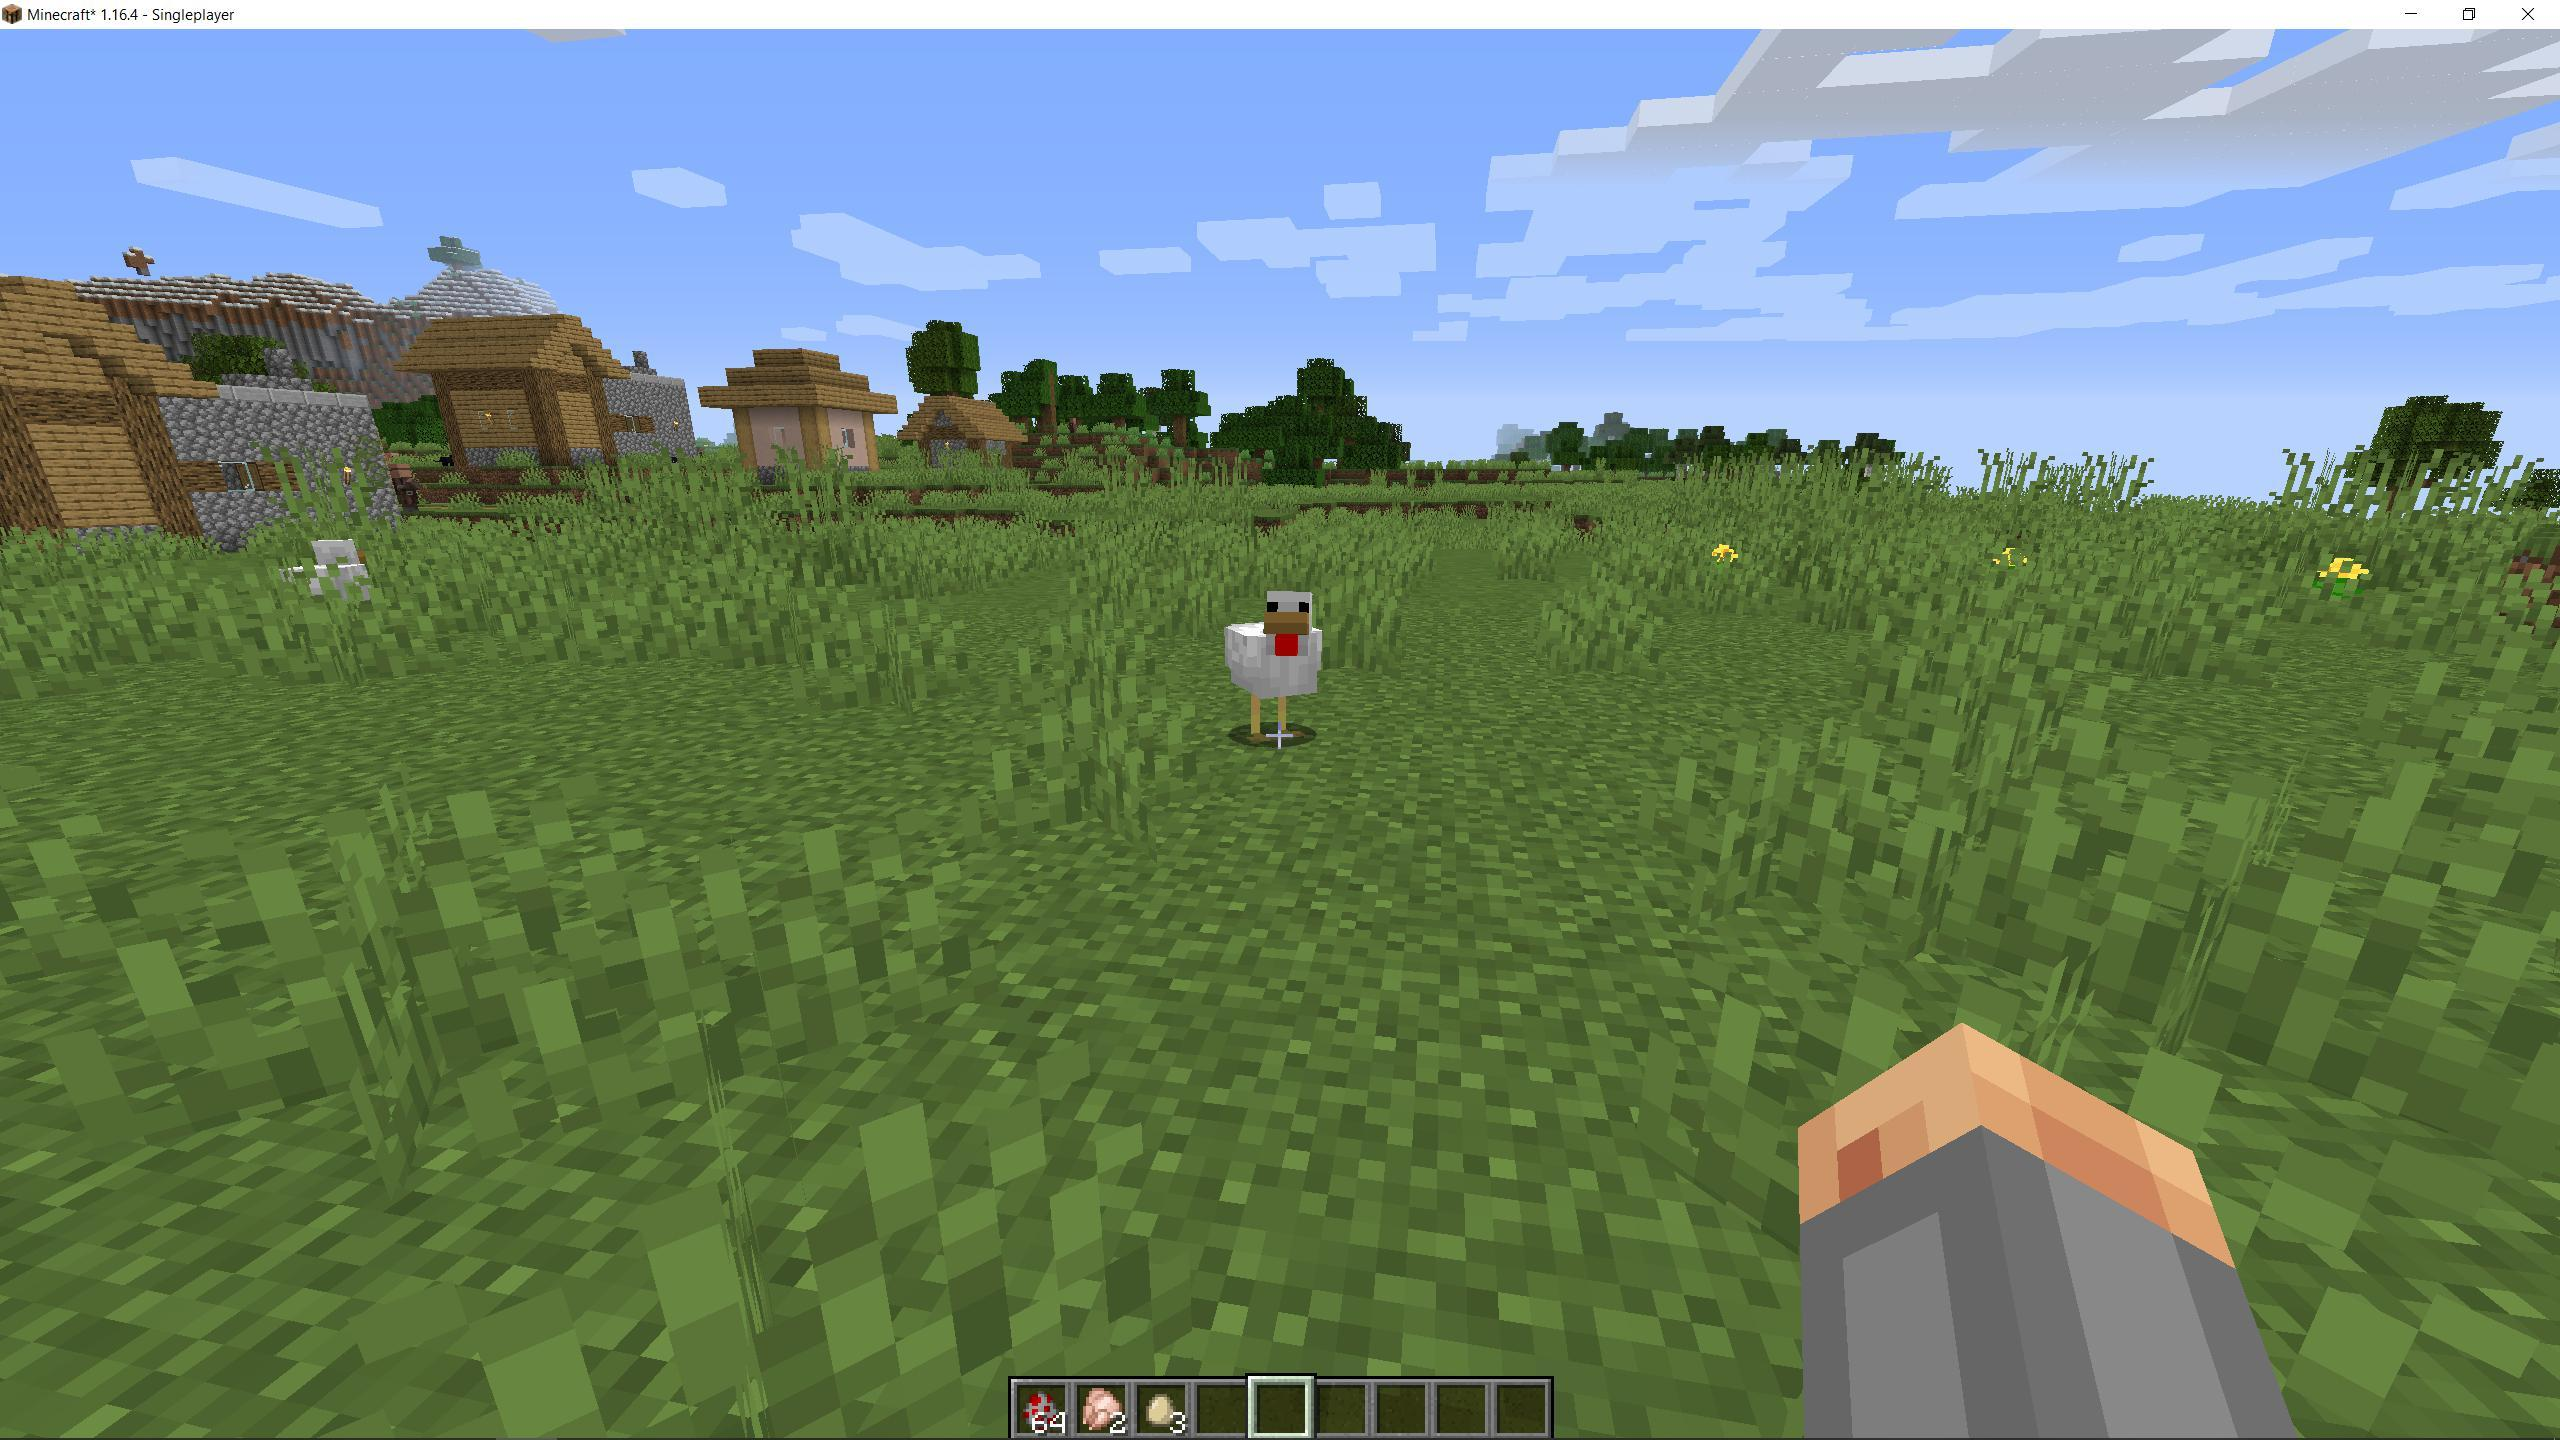chicken: (1203, 589, 1336, 760), (278, 526, 378, 652)
